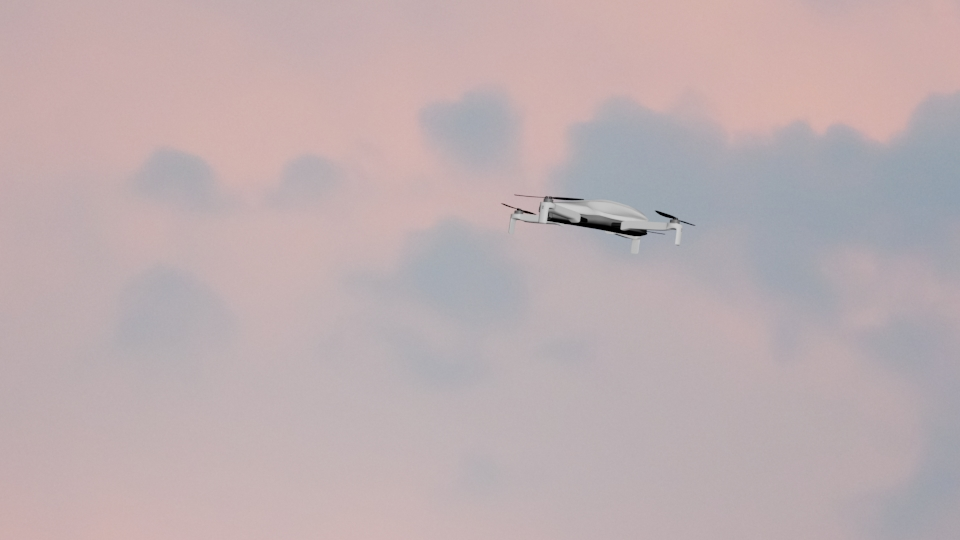drone: (498, 193, 695, 254)
